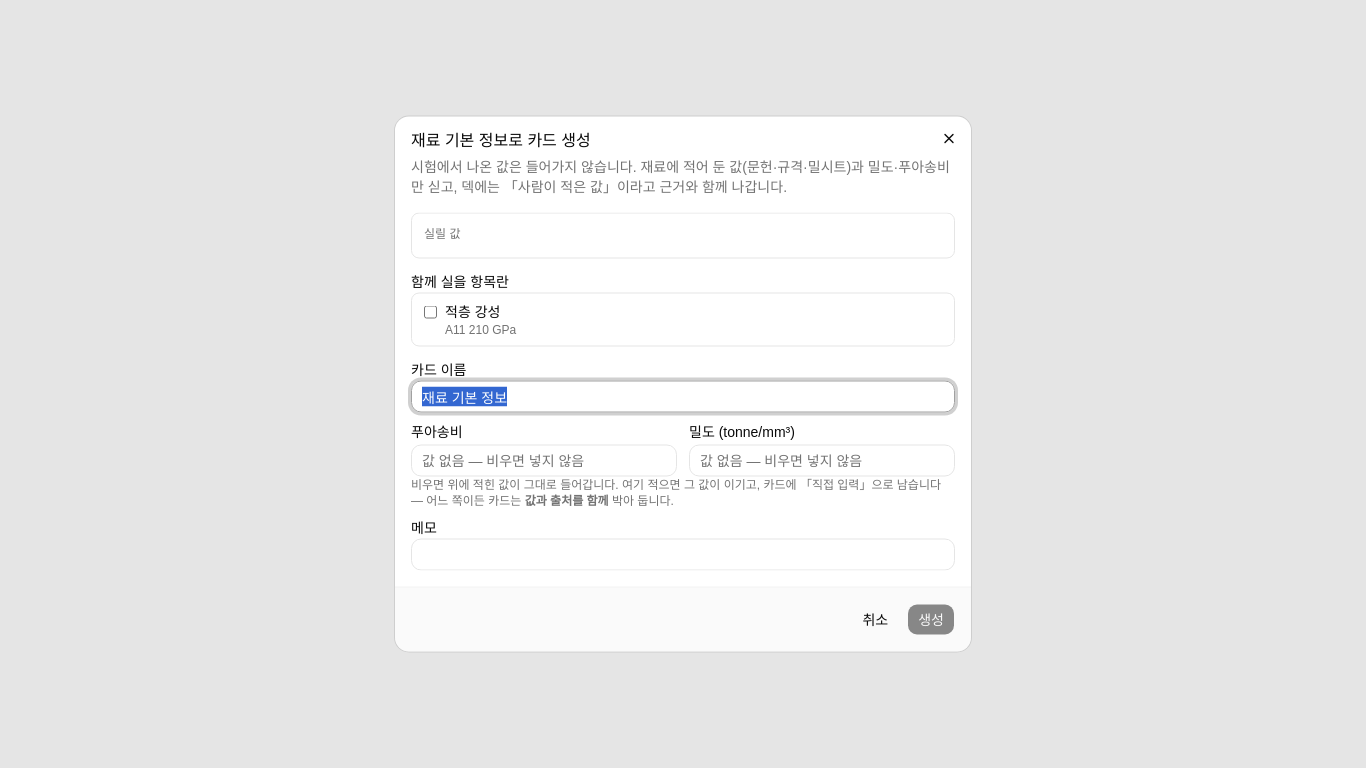
재료 기본 정보로 카드 생성 › 고른 항목란만 있어도 만들 수 있다
The image size is (1366, 768).
Expected: the button "생성" is disabled, [907,604,955,636]
고르기 전에는 잠겨 있다 — 빈 카드는 「이 재료는 물성이 있다」 는 거짓말이다.
Click the checkbox labelled "적층 강성 A11 210 GPa" at {"x": 430, "y": 312}, box [424,306,437,318]
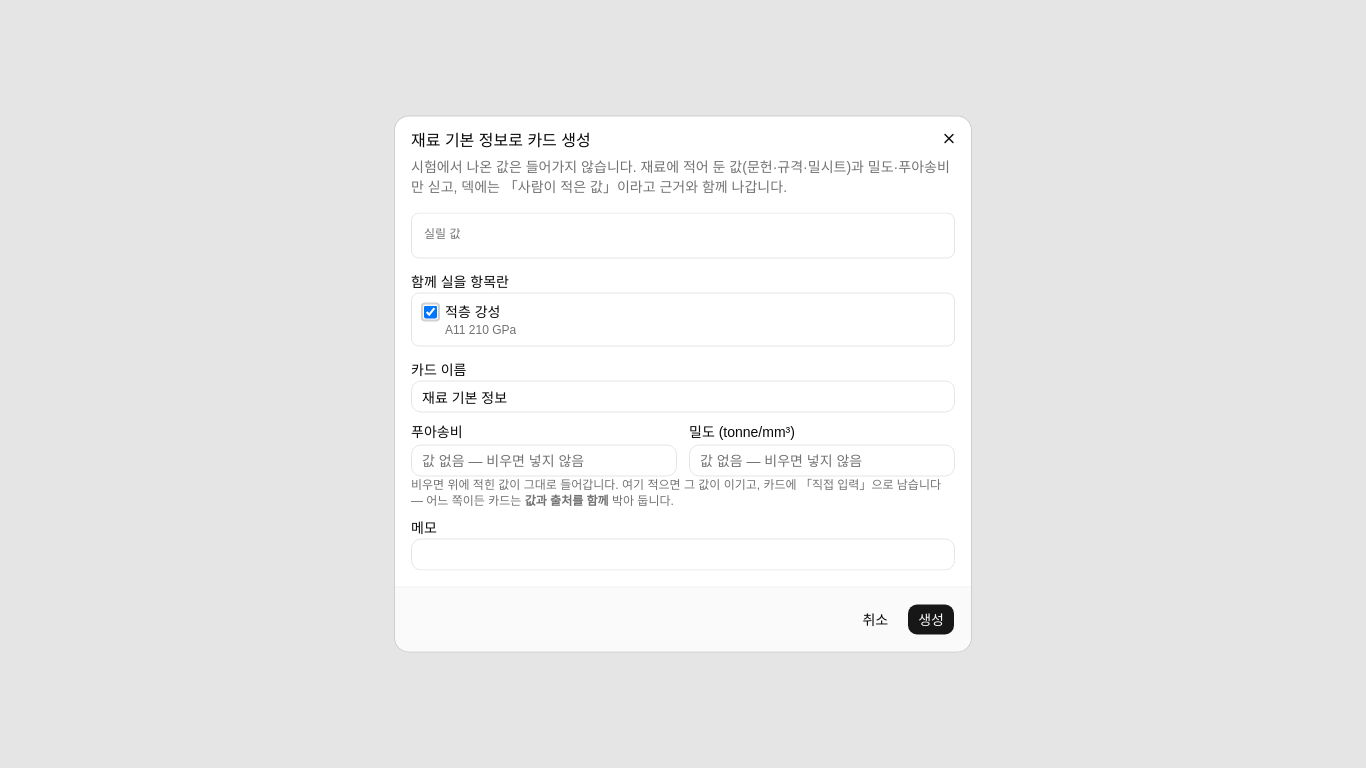
Now the button "생성" is enabled, box [907,604,955,636]
